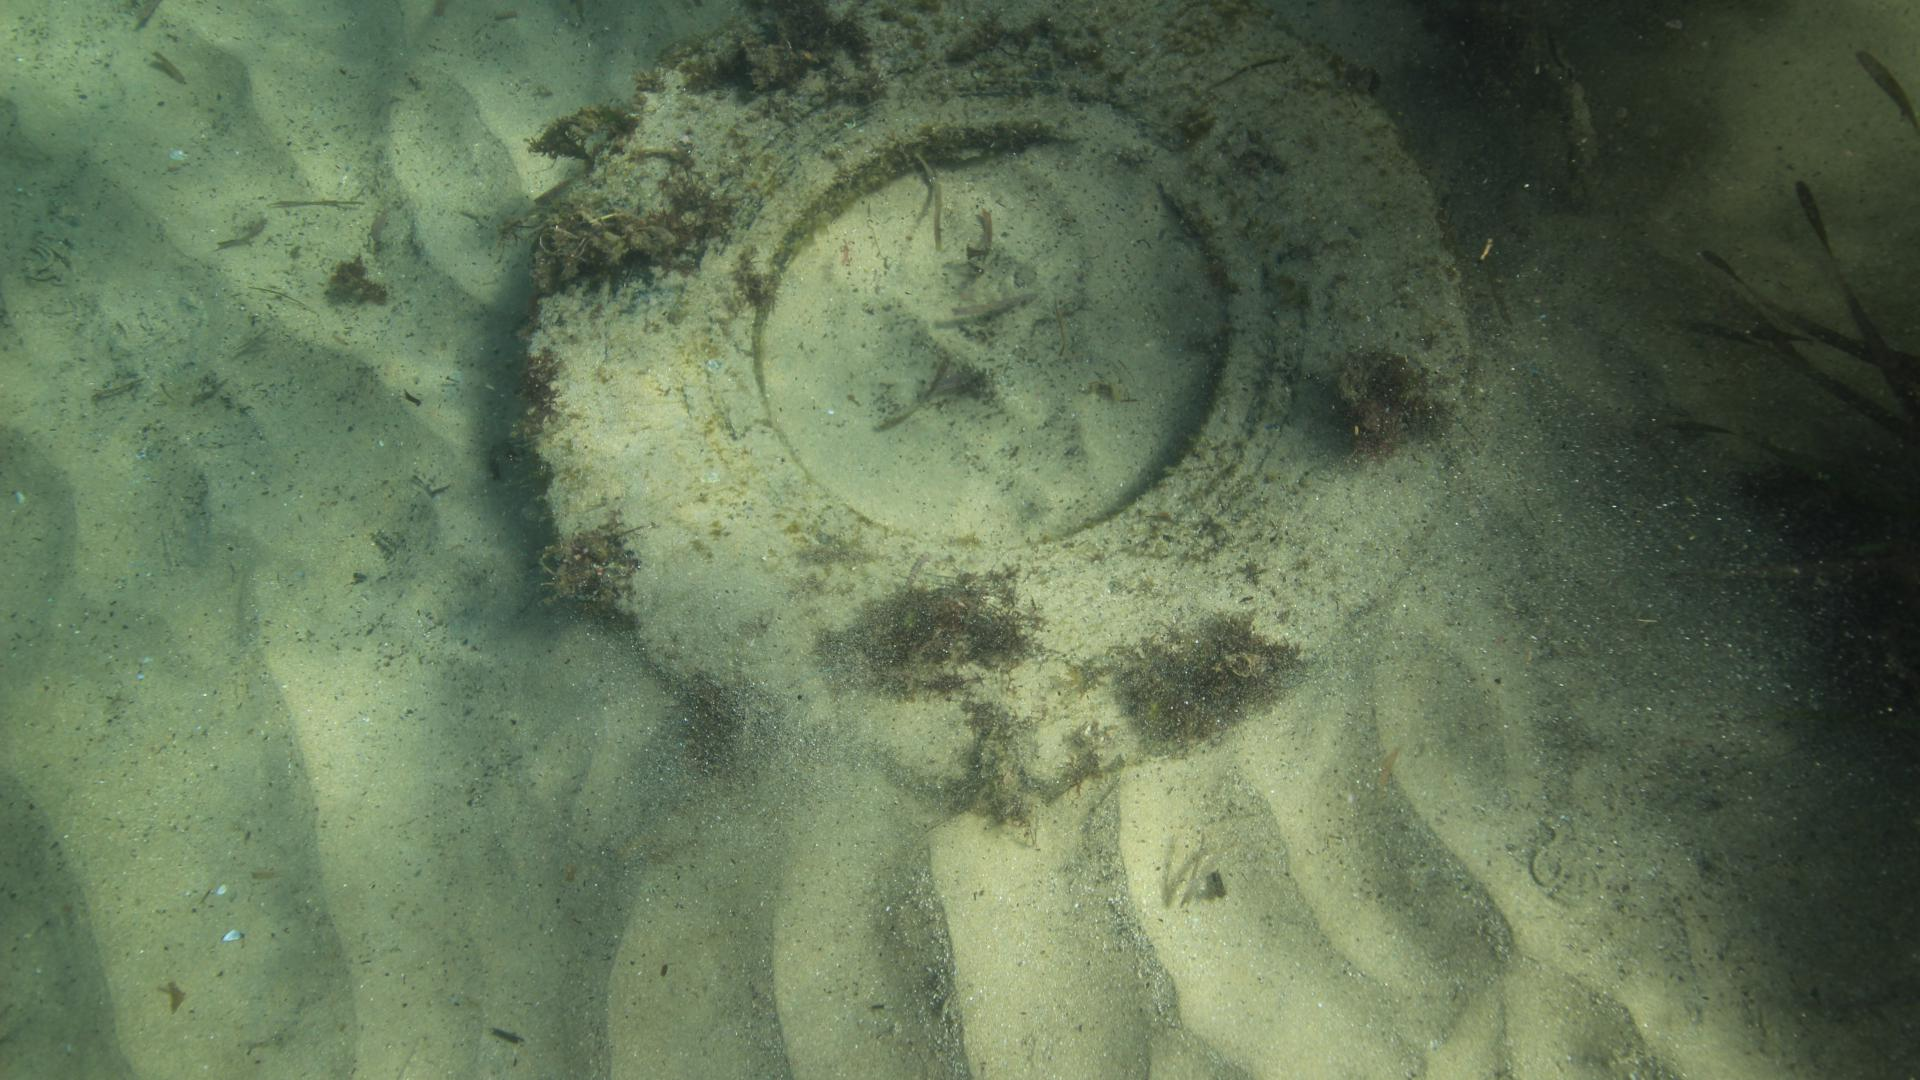tire: (514, 0, 1465, 812)
